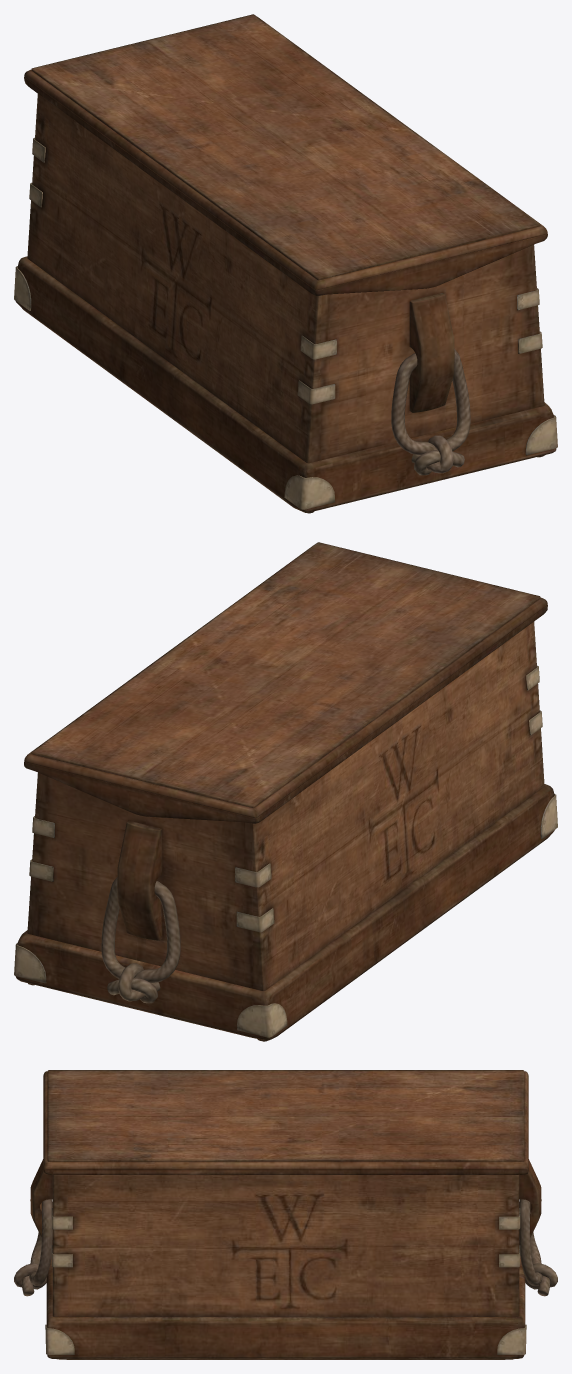
File: c_woodcrate.glb
The picture shows the model from 3 angles, top to bottom: view 1: azimuth 30°, elevation 25°; view 2: azimuth 150°, elevation 25°; view 3: azimuth 270°, elevation 25°; orthographic projection. The views are drawn at different scales.
Visible parts, largest first — view 1: c_woodcrate; view 2: c_woodcrate; view 3: c_woodcrate.
Part boxes in pixels (box(x1,y1,x2,y2)): c_woodcrate: box(14, 14, 557, 513); c_woodcrate: box(14, 542, 557, 1041); c_woodcrate: box(14, 1070, 557, 1359).
Size of the model in its own units: 0.5291 by 0.464 by 1.17.
Materials: 1 (1 with a texture image).
